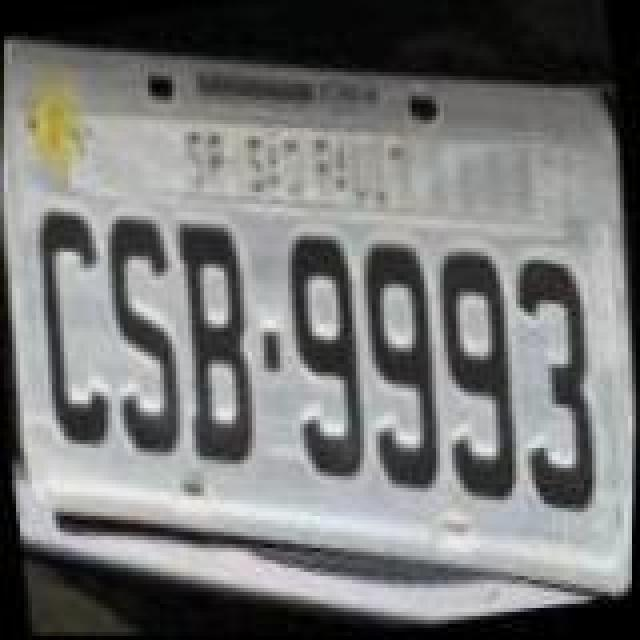3: (498, 256, 614, 524)
9: (420, 242, 532, 510), (352, 234, 460, 498), (272, 226, 380, 486)
B: (160, 210, 268, 470)
C: (24, 204, 124, 452)
S: (90, 208, 194, 460)
